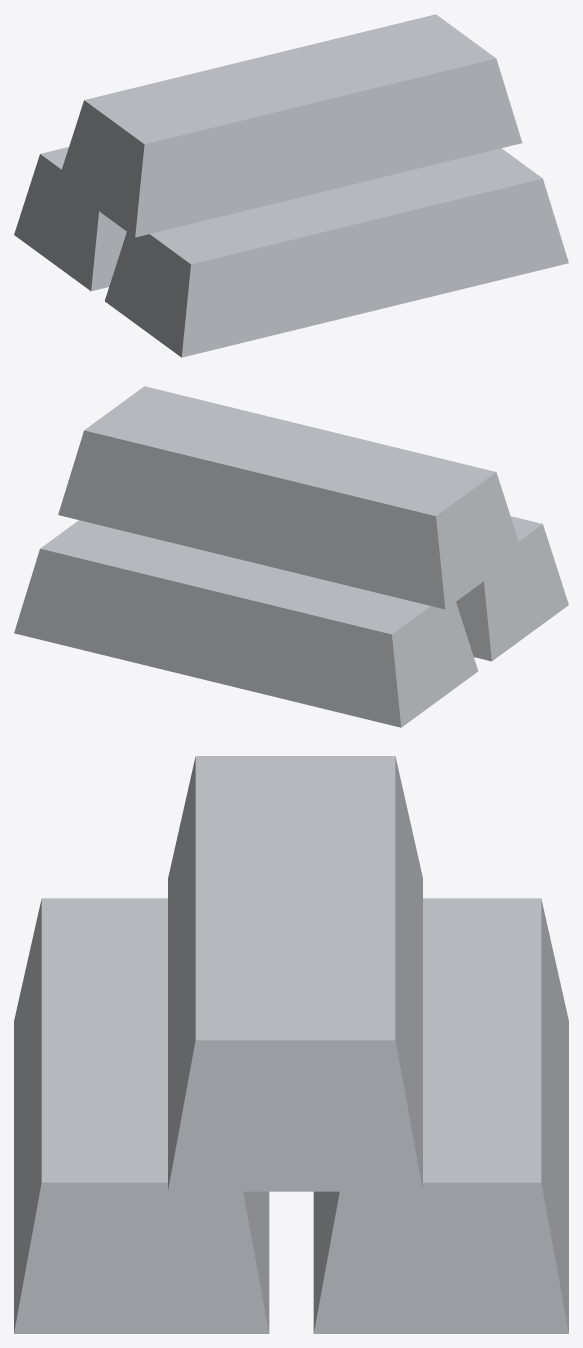
File: SM_Magnesium_iingots.glb
3 renders of one model, top to bottom at view 1: azimuth 30°, elevation 25°; view 2: azimuth 150°, elevation 25°; view 3: azimuth 270°, elevation 25°, orthographic. The views are drawn at different scales.
Visible parts, largest first — view 1: SM_Magnesium_iingots; view 2: SM_Magnesium_iingots; view 3: SM_Magnesium_iingots.
Boxes of the visible parts, x1=… form: SM_Magnesium_iingots: x1=14, y1=14, x2=568, y2=357; SM_Magnesium_iingots: x1=14, y1=386, x2=568, y2=727; SM_Magnesium_iingots: x1=14, y1=756, x2=568, y2=1333.
Bounding box in the file's own units: 0.6 × 0.25 × 0.45.
Materials: 1 (1 with a texture image).
